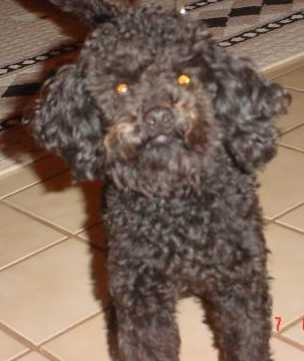dog: (29, 10, 281, 330)
